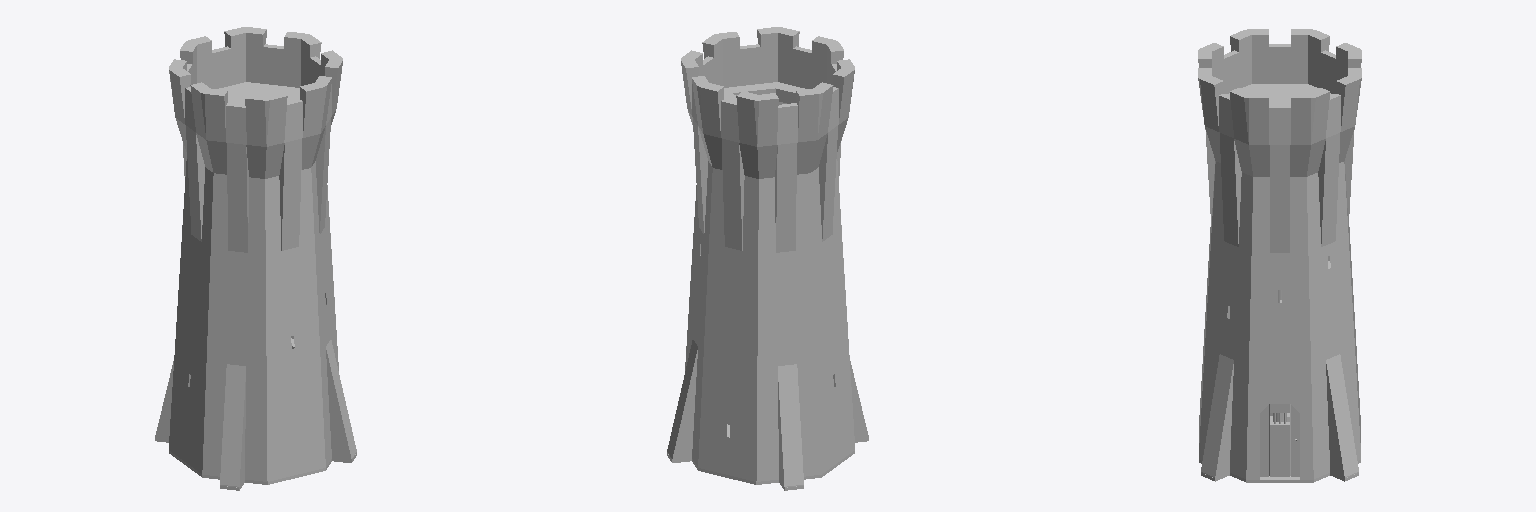
File: castle.obj
The picture shows the model from 3 angles: view 1: azimuth 30°, elevation 25°; view 2: azimuth 150°, elevation 25°; view 3: azimuth 270°, elevation 25°; orthographic projection.
Parts seen in each view (by area): view 1: Castle_Tower; view 2: Castle_Tower; view 3: Castle_Tower.
Part boxes in pixels (bbox=[...]): Castle_Tower: bbox=[155, 27, 356, 490]; Castle_Tower: bbox=[667, 27, 868, 490]; Castle_Tower: bbox=[1198, 29, 1361, 482].
Bounding box in the file's own units: 77.39 × 200 × 77.39.